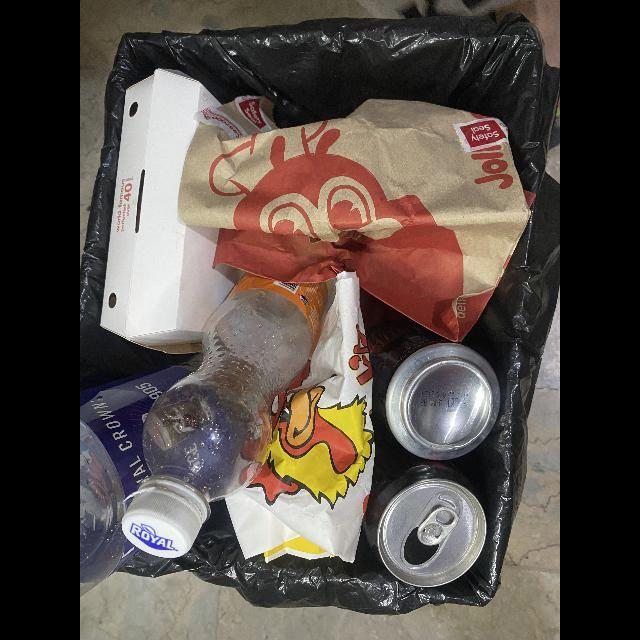aluminum: (361, 417, 487, 587), (367, 322, 500, 461)
cardboard: (100, 69, 246, 353)
paper: (178, 95, 539, 343), (226, 271, 375, 564)
plastic_bottle: (123, 272, 337, 558), (80, 354, 205, 596)
